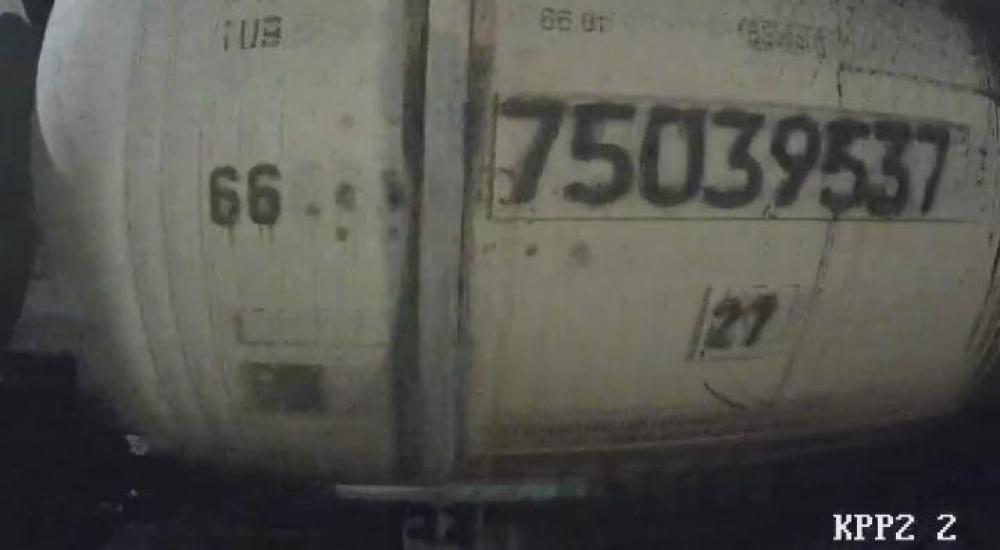Wagon-number: (489, 92, 953, 223)
